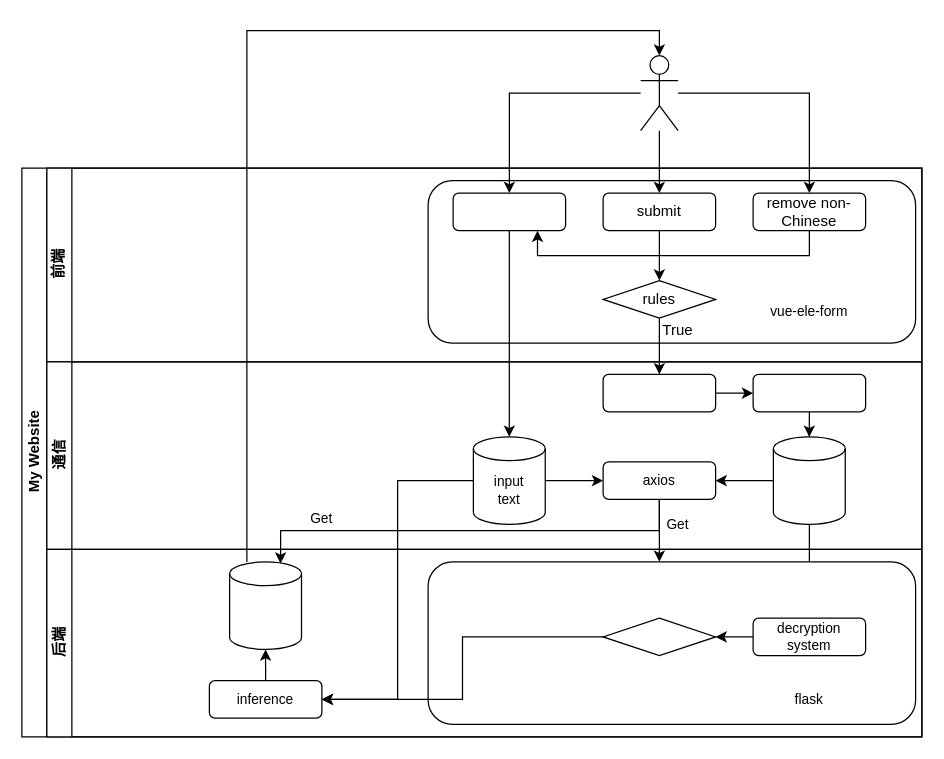
The diagram is 944 pixels wide and 759 high, and some of its shapes have lost their labels. Each missing label, with the centre of its shape:
"encryption system" belongs at point 809,392.
"get timestamp" belongs at point 659,392.
"input" belongs at point 509,211.
"midi file" belongs at point 265,605.
"time stamp" belongs at point 808,480.
"verify" belongs at point 659,636.
